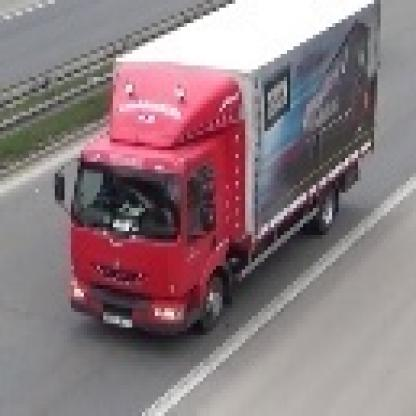truck: (56, 1, 381, 344)
